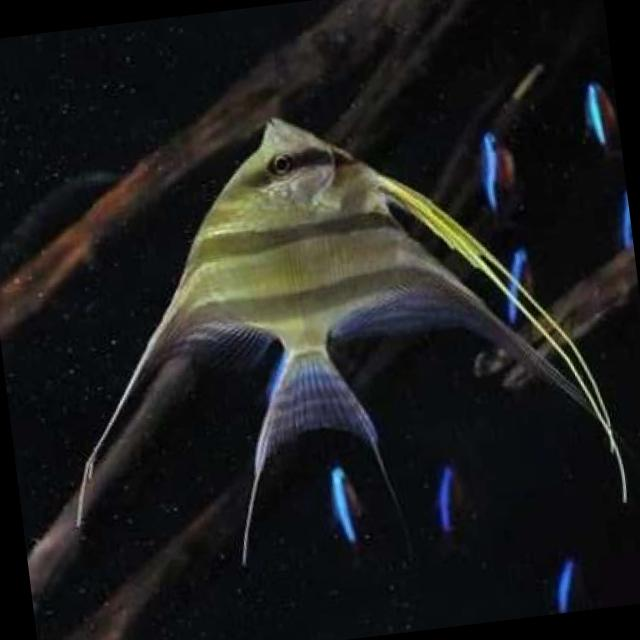AngelFish: (26, 88, 580, 562)
